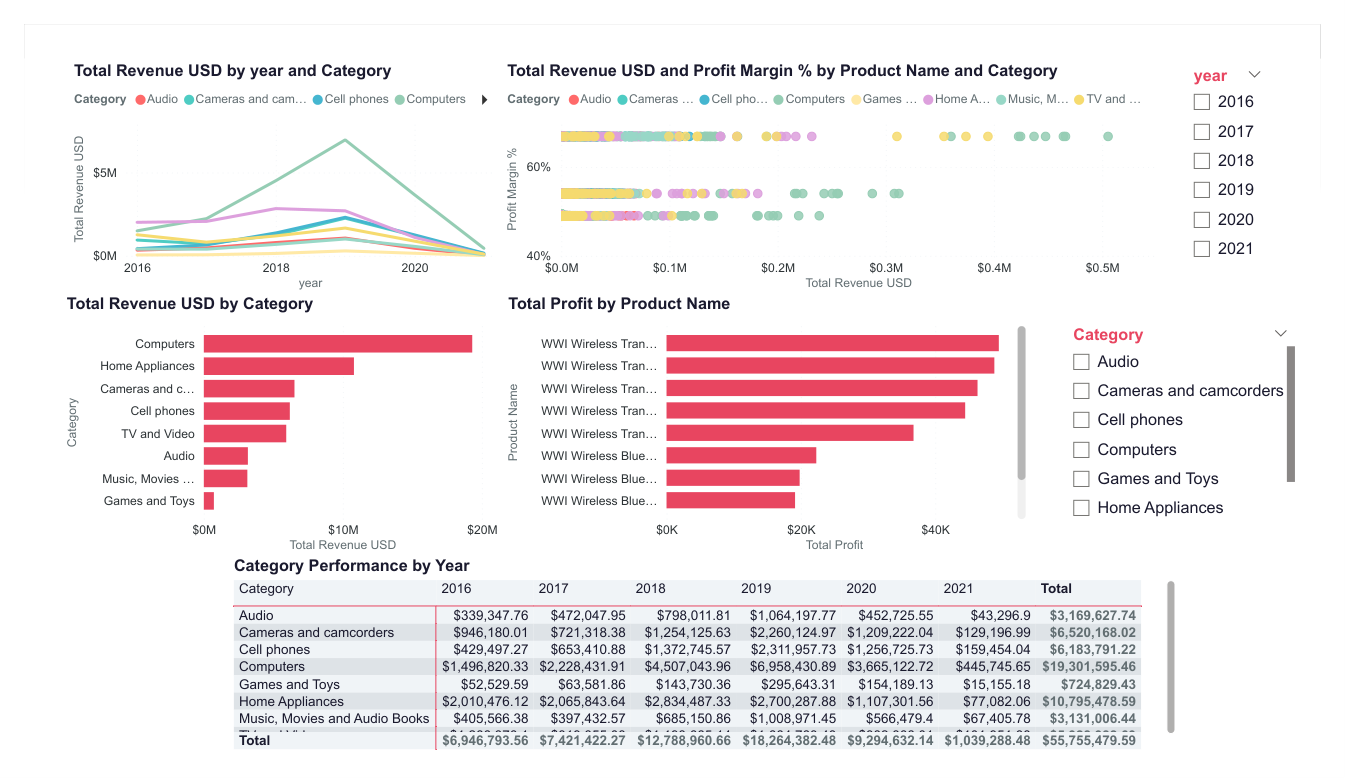

The page's visual inventory and layout, read from the dashboard file:
{"tool":"powerbi","page":{"name":"Product analysis","canvas":[1280,720],"ordinal":2},"visuals":[{"type":"slicer","fields":{"Values":["dim_date.year"]},"box":[1141.6,37.2,92.3,207.3],"z":0},{"type":"slicer","fields":{"Values":["Products.Category"]},"box":[1023.4,293.1,236.4,207.3],"z":1000},{"type":"clusteredBarChart","fields":{"Category":["Products.Category"],"Y":["Table_measure.Total Revenue USD"]},"box":[37.2,267.2,435.6,259.1],"z":2000},{"type":"clusteredBarChart","fields":{"Category":["Products.Product Name"],"Y":["Table_measure.Total Profit"]},"box":[472.8,267.2,521.4,259.1],"z":3000},{"type":"scatterChart","fields":{"X":["Table_measure.Total Revenue USD"],"Category":["Products.Product Name"],"Series":["Products.Category"],"Y":["Table_measure.Profit Margin %"]},"box":[472.4,36.6,668.1,230.6],"z":4000},{"type":"lineChart","fields":{"Y":["Table_measure.Total Revenue USD"],"Category":["dim_date.year"],"Series":["Products.Category"]},"box":[43.7,37.2,429.1,229.9],"z":5000},{"type":"pivotTable","title":"Category Performance by Year","fields":{"Rows":["Products.Category"],"Columns":["dim_date.year"],"Values":["Table_measure.Total Revenue USD"]},"box":[202.4,526.2,939.2,194.3],"z":6000}]}

Visuals, with their boxes in screenshot pixels (x1, y1, x2, y2), scaled from the page's 1280x720 canvas onto the 1345x778 screenshot:
slicer - dim_date.year: x1=1200 y1=40 x2=1297 y2=264
slicer - Products.Category: x1=1075 y1=317 x2=1324 y2=541
clusteredBarChart - Products.Category x Table_measure.Total Revenue USD: x1=39 y1=289 x2=497 y2=569
clusteredBarChart - Products.Product Name x Table_measure.Total Profit: x1=497 y1=289 x2=1045 y2=569
scatterChart - Table_measure.Total Revenue USD x Products.Product Name: x1=496 y1=40 x2=1198 y2=289
lineChart - Table_measure.Total Revenue USD x dim_date.year: x1=46 y1=40 x2=497 y2=289
"Category Performance by Year" pivotTable: x1=213 y1=569 x2=1200 y2=777
